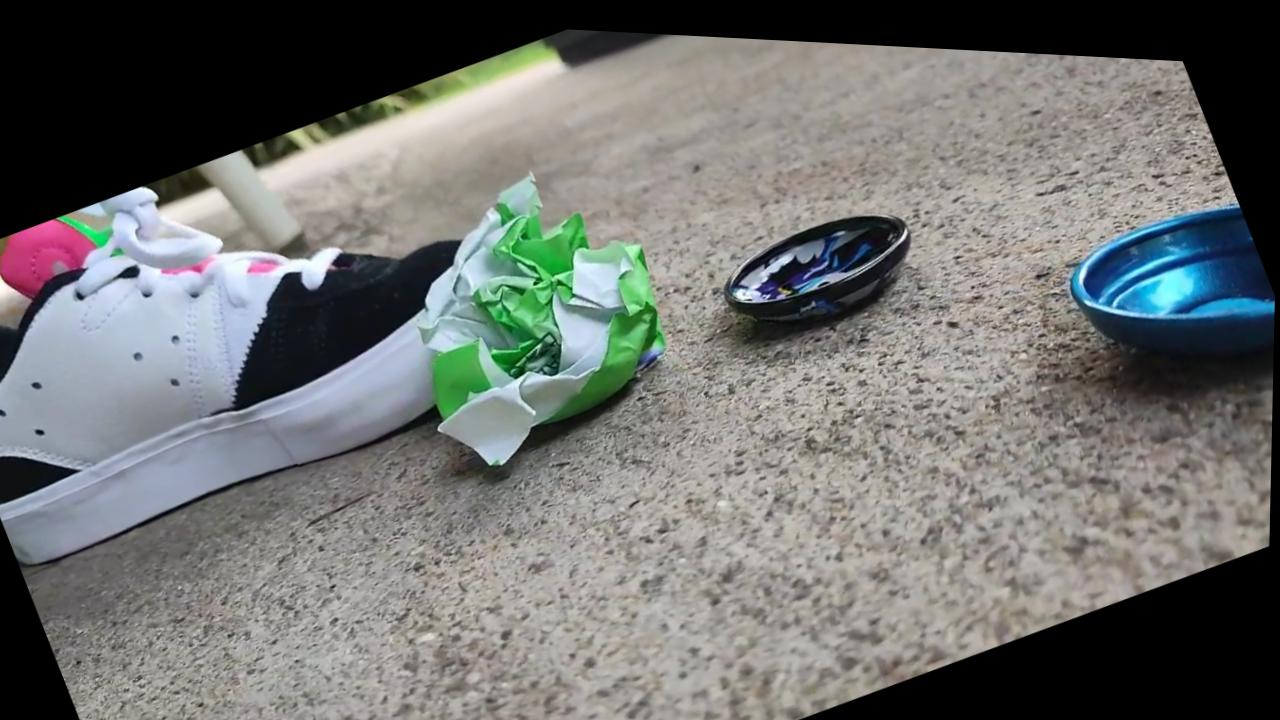paper: (407, 177, 663, 464)
